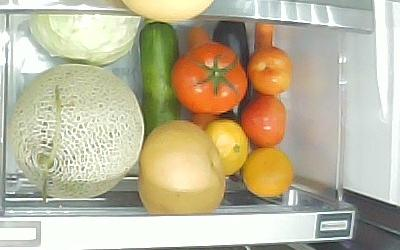cabbage: (27, 13, 144, 68)
carrot: (185, 25, 220, 125), (254, 21, 274, 50)
eggplant: (212, 21, 250, 183)
melon: (8, 62, 144, 201)
pear: (137, 120, 226, 215)
prune: (241, 95, 289, 146), (248, 48, 295, 97)
tangerine: (242, 146, 293, 199), (204, 118, 250, 176)
tomato: (172, 42, 247, 116)
zucchini: (140, 21, 177, 137)
